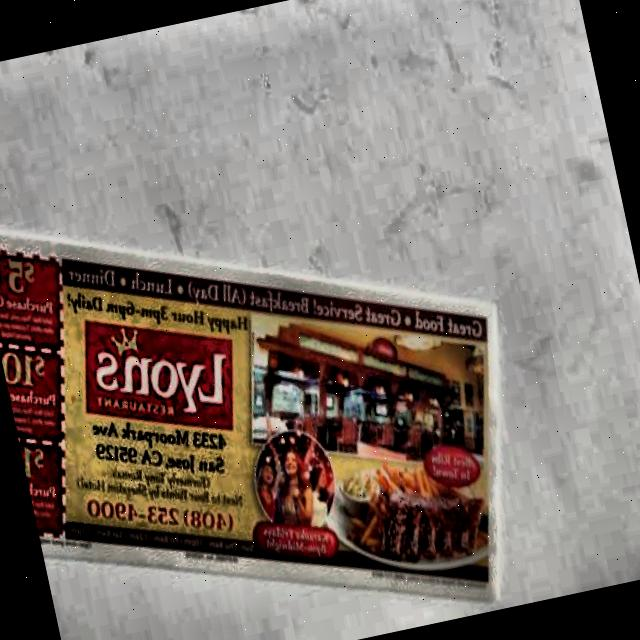paper: (0, 128, 560, 640)
